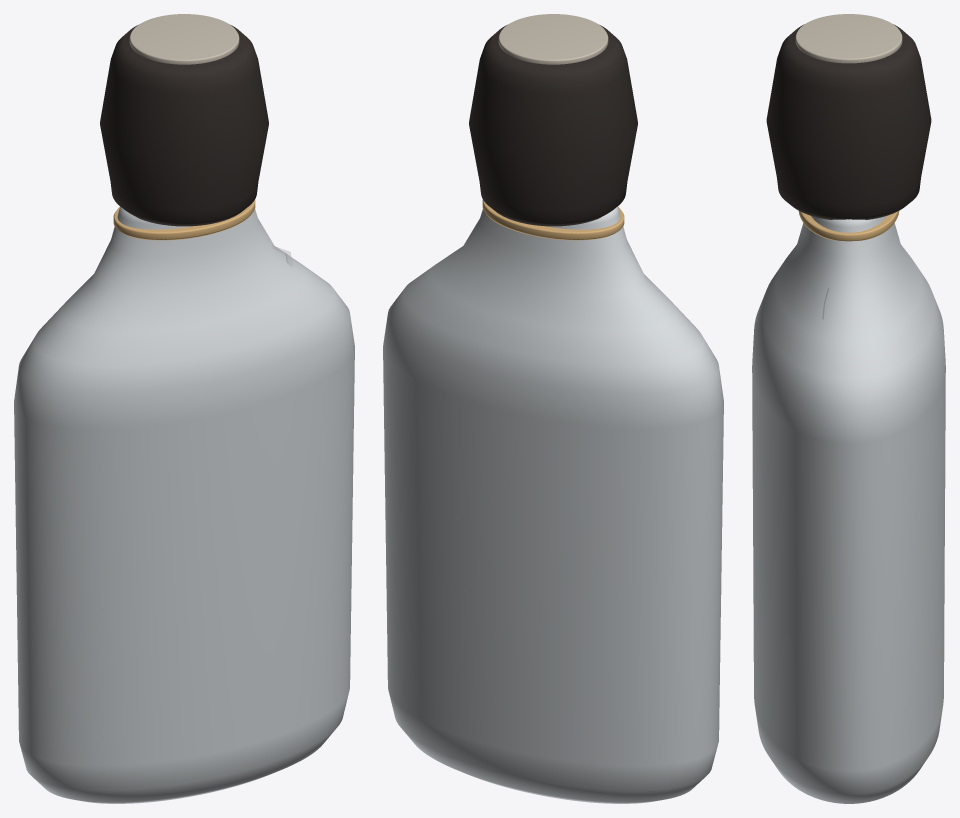
File: velvet-bloom.glb
3 renders of one model, left to right at view 1: azimuth 30°, elevation 25°; view 2: azimuth 150°, elevation 25°; view 3: azimuth 270°, elevation 25°, orthographic. The views are drawn at different scales.
Parts seen in each view (by area): view 1: BottleGlass, CapShell, CapCrown, NeckGold; view 2: BottleGlass, CapShell, CapCrown, NeckGold; view 3: BottleGlass, CapShell, CapCrown, NeckGold.
Boxes of the visible parts, x1,y1,x2,y2 form: BottleGlass: [14, 207, 354, 803]; CapShell: [100, 25, 268, 226]; CapCrown: [129, 14, 239, 64]; NeckGold: [113, 199, 255, 240]; BottleGlass: [383, 207, 723, 803]; CapShell: [469, 25, 637, 226]; CapCrown: [498, 14, 608, 64]; NeckGold: [482, 199, 624, 240]; BottleGlass: [752, 216, 945, 803]; CapShell: [766, 24, 931, 219]; CapCrown: [795, 14, 902, 63]; NeckGold: [798, 211, 899, 241].
Size of the model in its own units: 1.78 by 3.79 by 0.9384.
